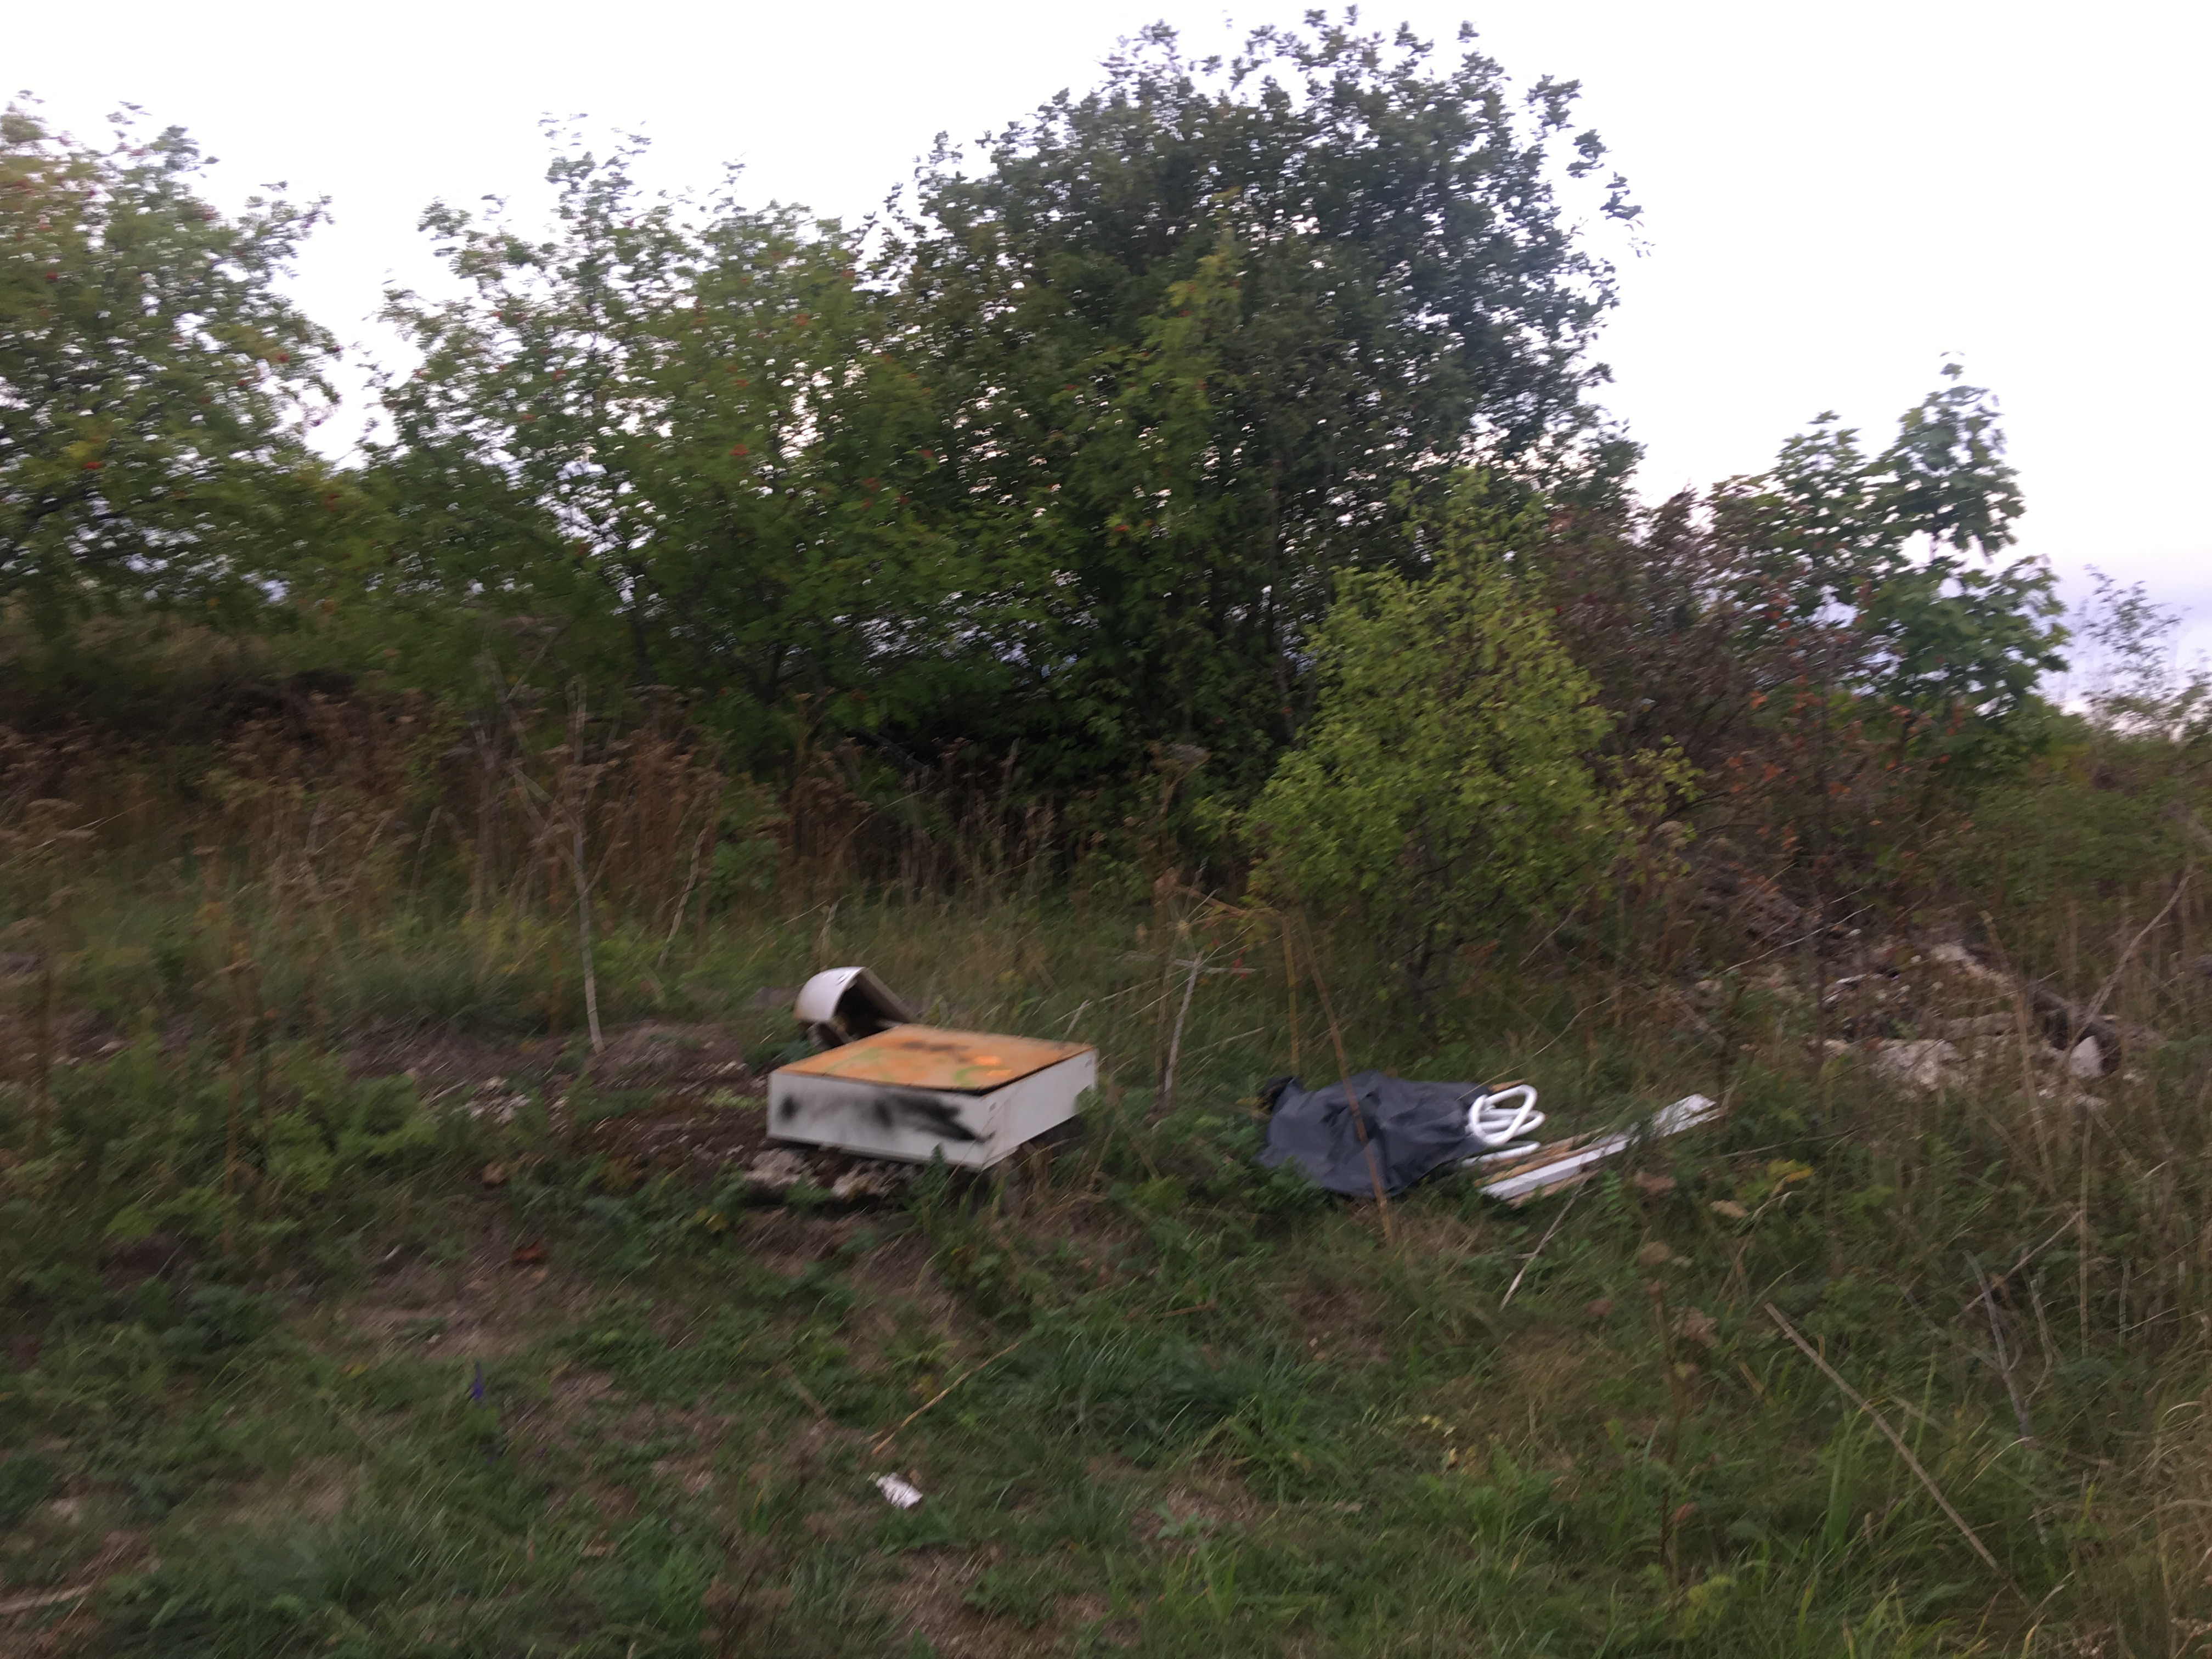trash: (1223, 1042, 1752, 1244), (754, 922, 1106, 1201), (846, 1446, 921, 1544)
